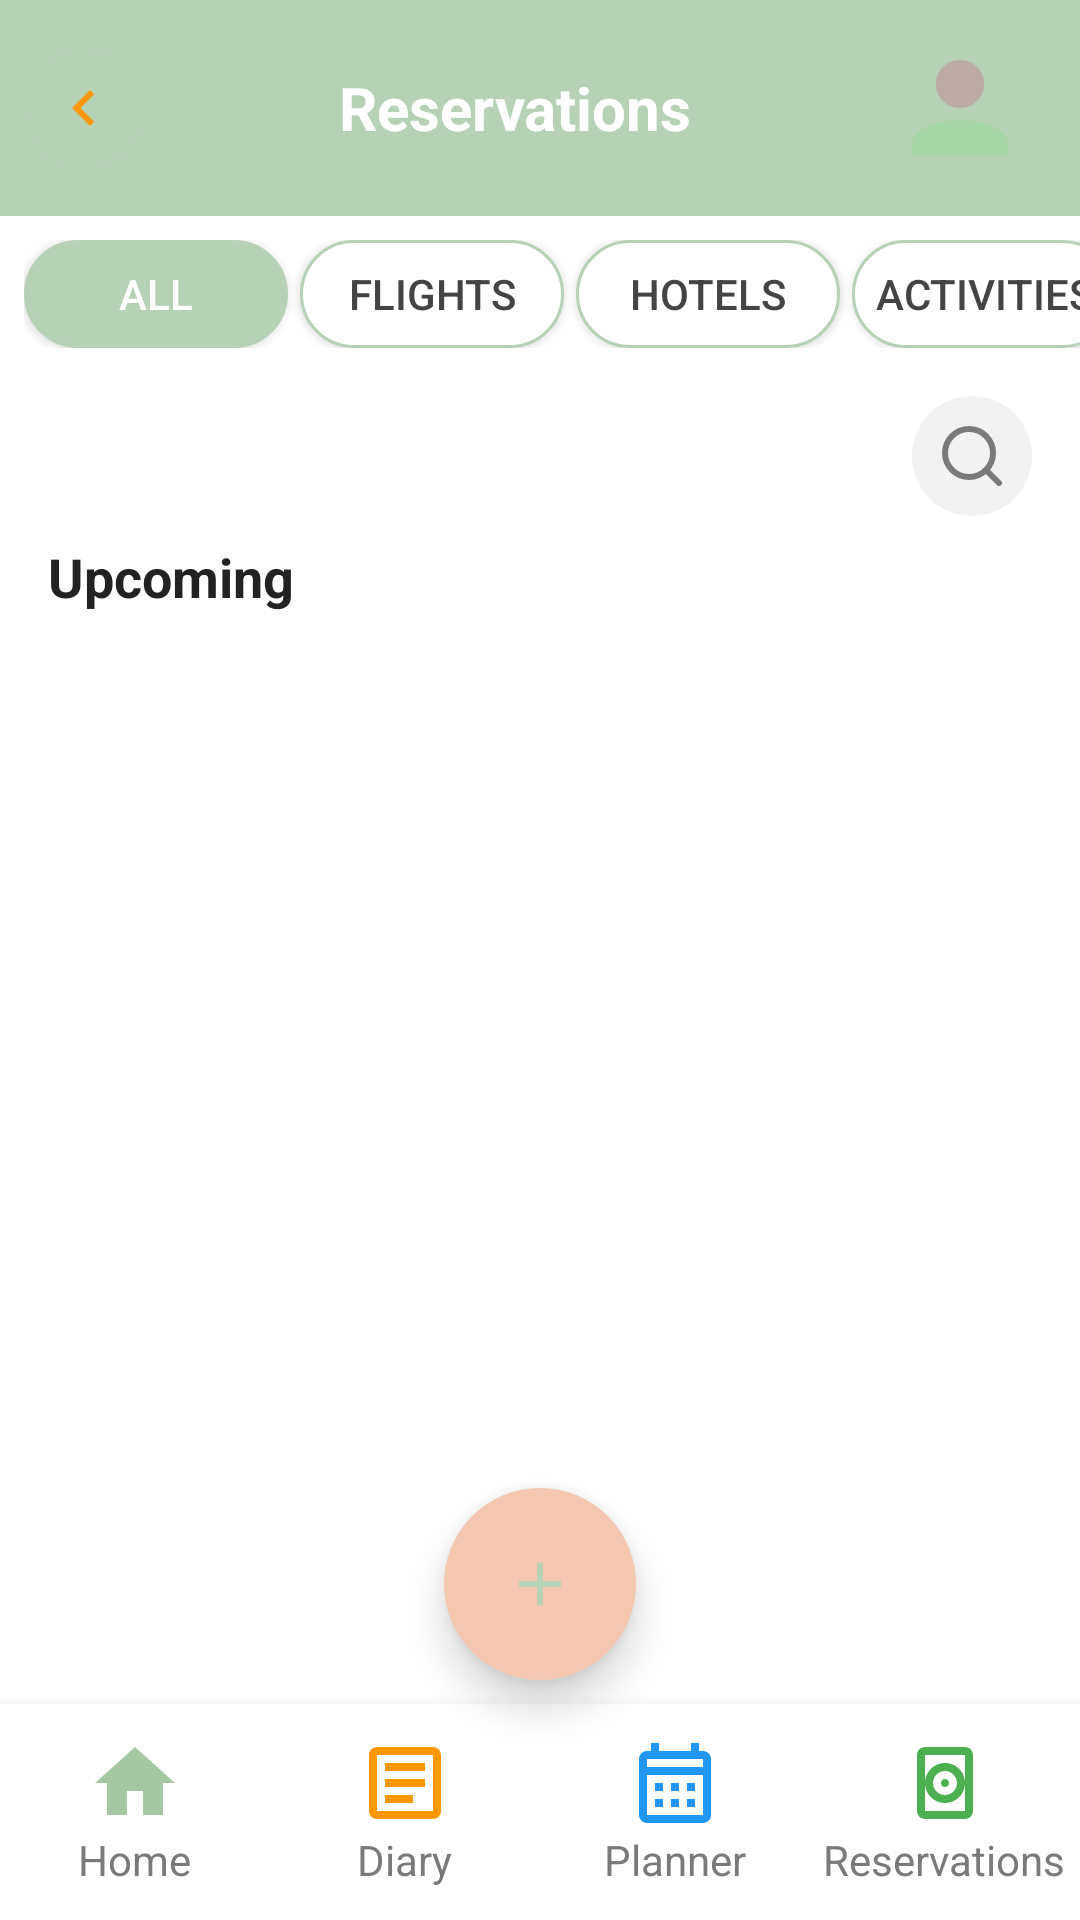

Icons on this 1080×1920 Android screen, each with its box as bbox=(x1, y1, x2, y2):
add: bbox=(444, 1488, 636, 1680)
Back: bbox=(72, 90, 94, 126)
Search: bbox=(912, 396, 1032, 516)
